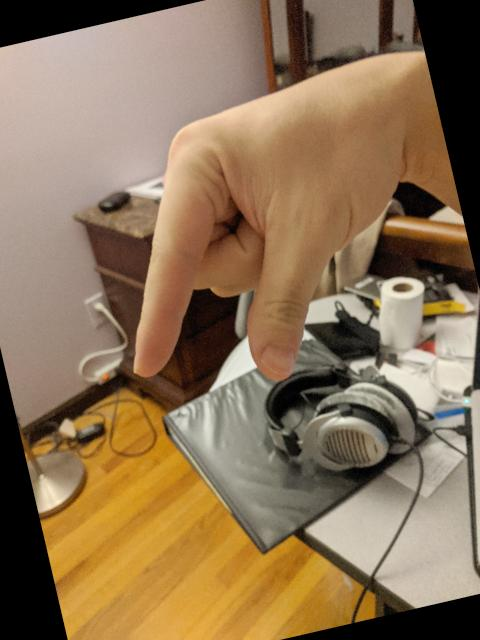Q: (72, 49, 446, 416)
